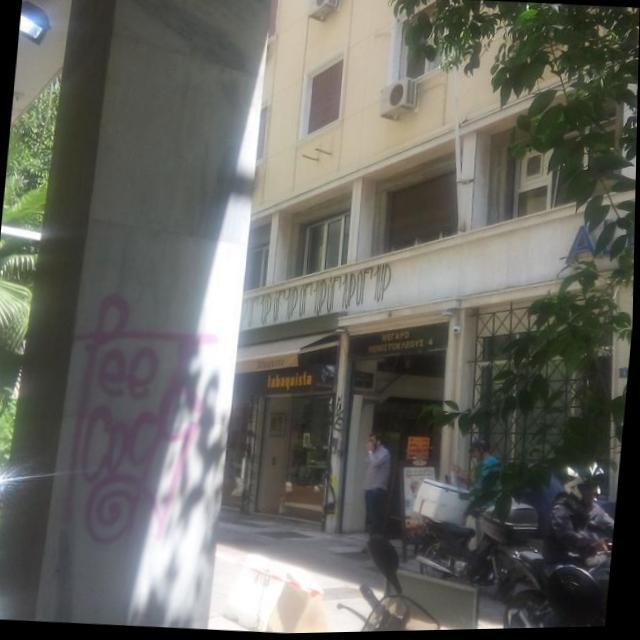-: (60, 290, 227, 554)
